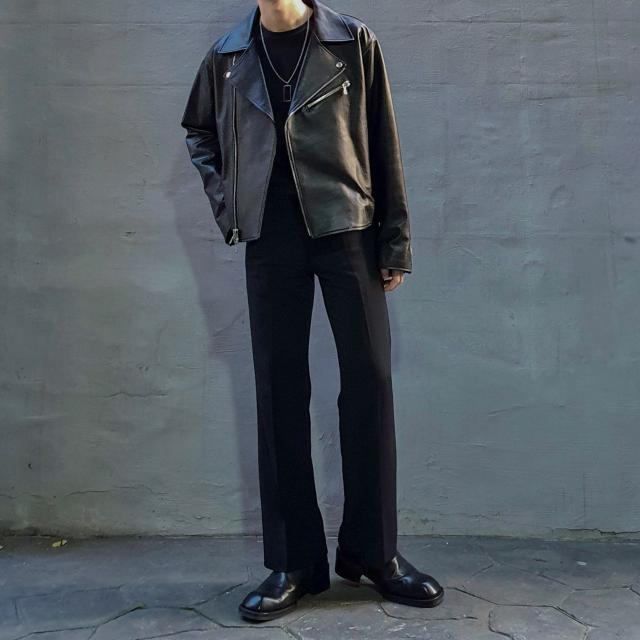jacket: (180, 2, 412, 282)
slacks: (245, 192, 398, 577)
